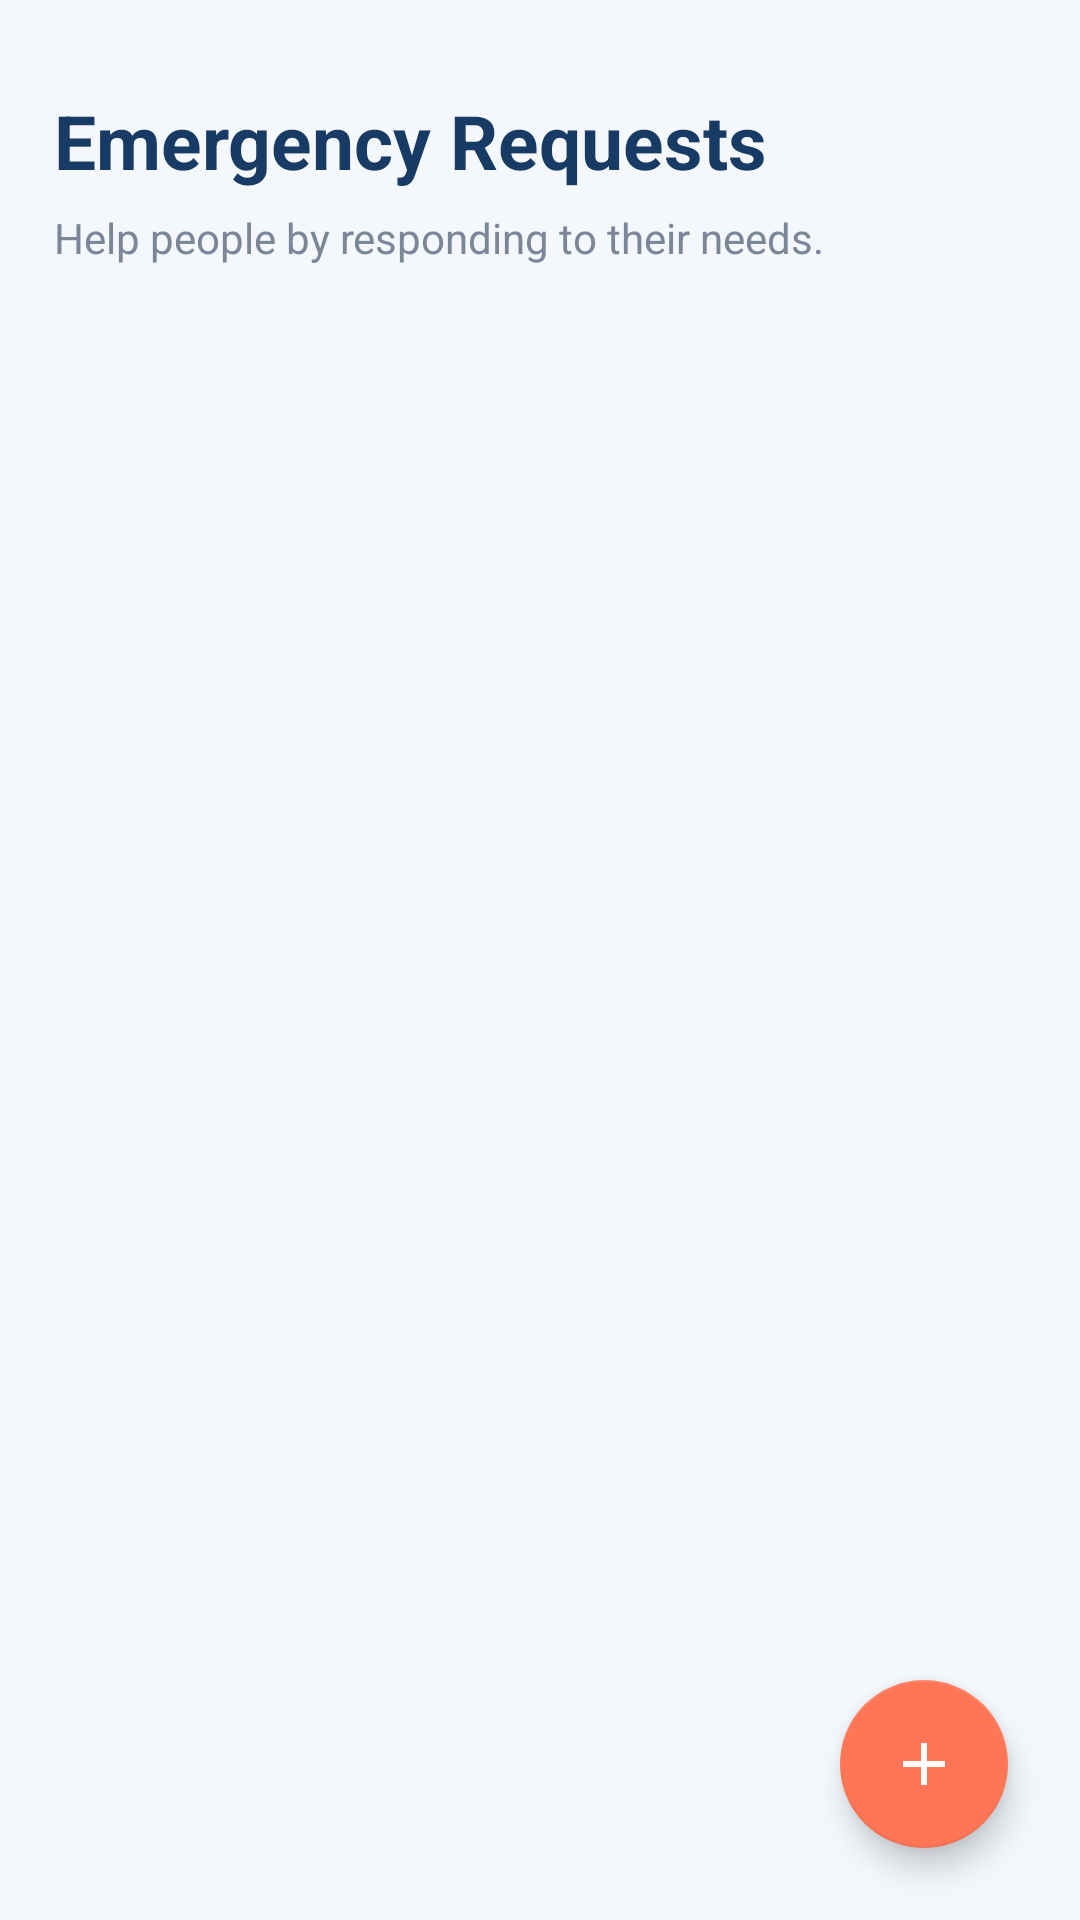

Named icons in this screenshot (1080px x 1920px) and their centers, (x,y):
Add emergency request: (924,1764)
